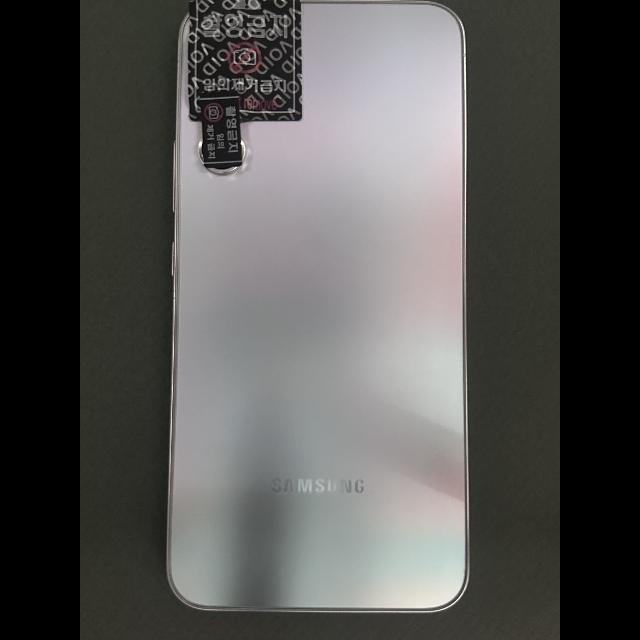phone: (164, 1, 468, 612)
sticker: (187, 0, 304, 122), (200, 93, 245, 168)
